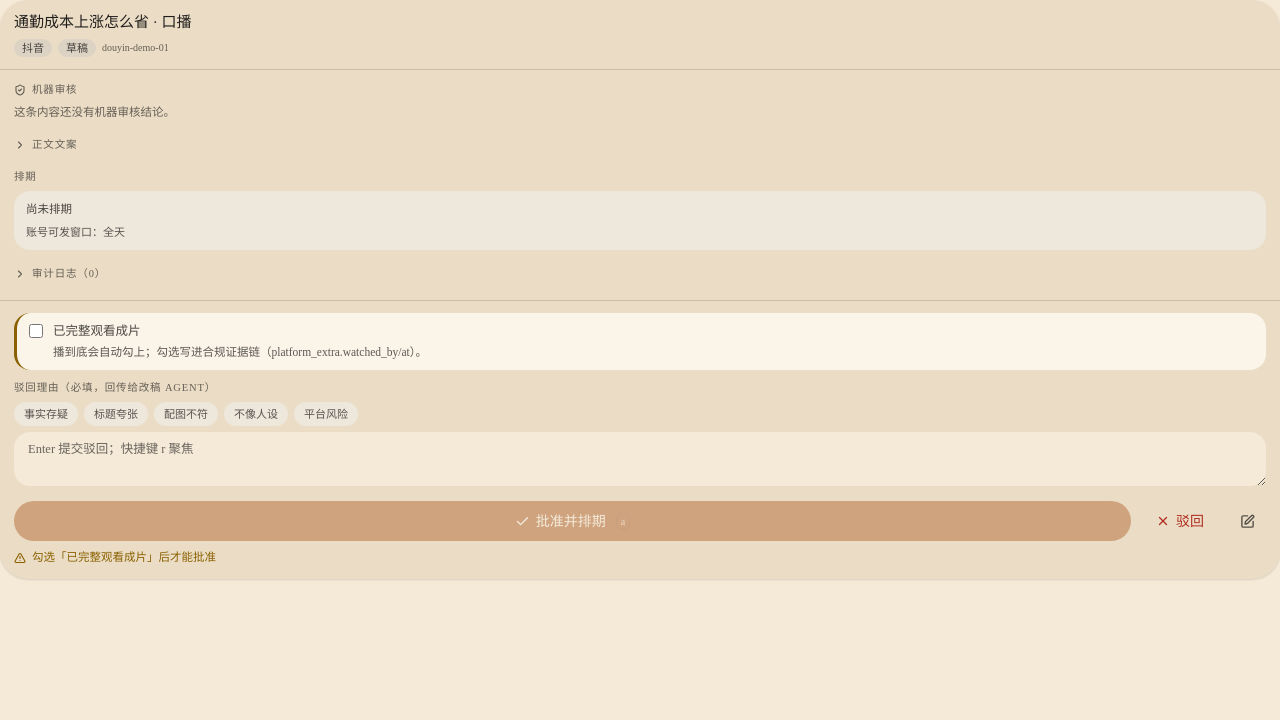
Scenario: 决策栏 · 视频闸门 › 后端回 422 watch_required 时弹提示，而不是静默失败
Click the checkbox labelled "已完整观看成片 播到底会自动勾上；勾选写进合规证据链（platform_extra.watched_by/at）。".
click(36, 331)  # box 29,324 -> 43,338
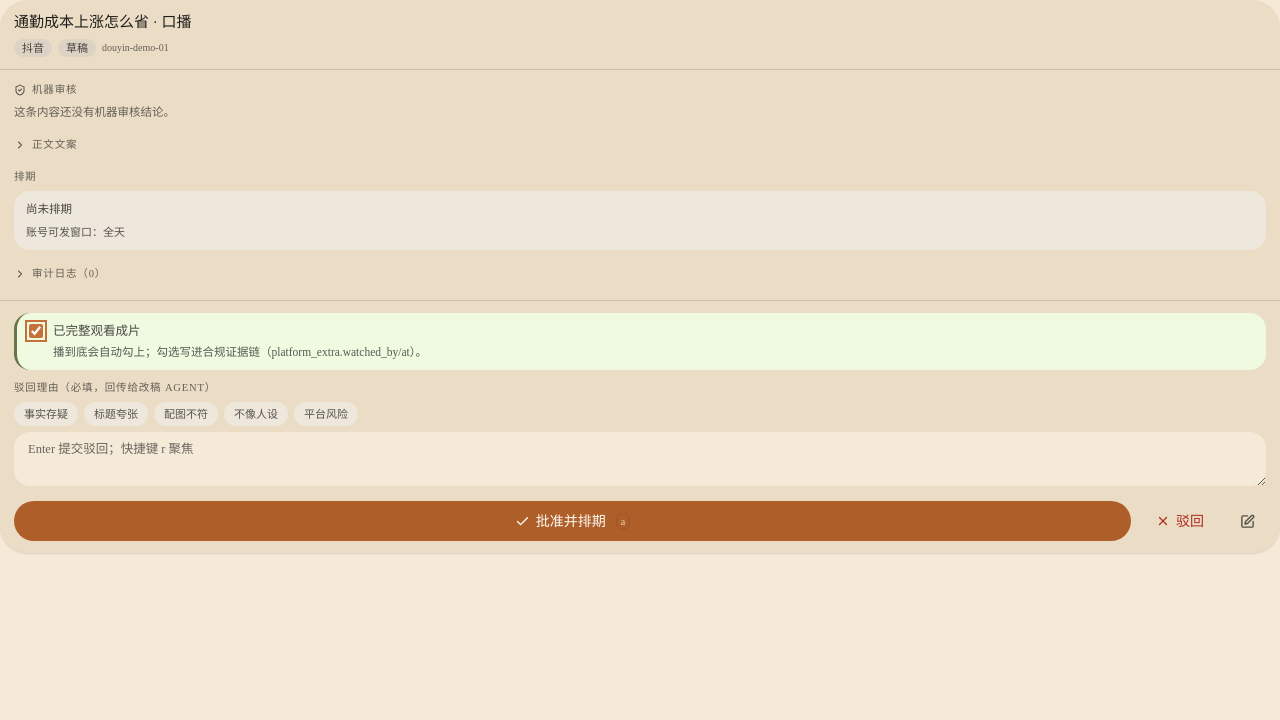
Click the button with test id "approve-button".
click(572, 521)  # box 14,501 -> 1131,541
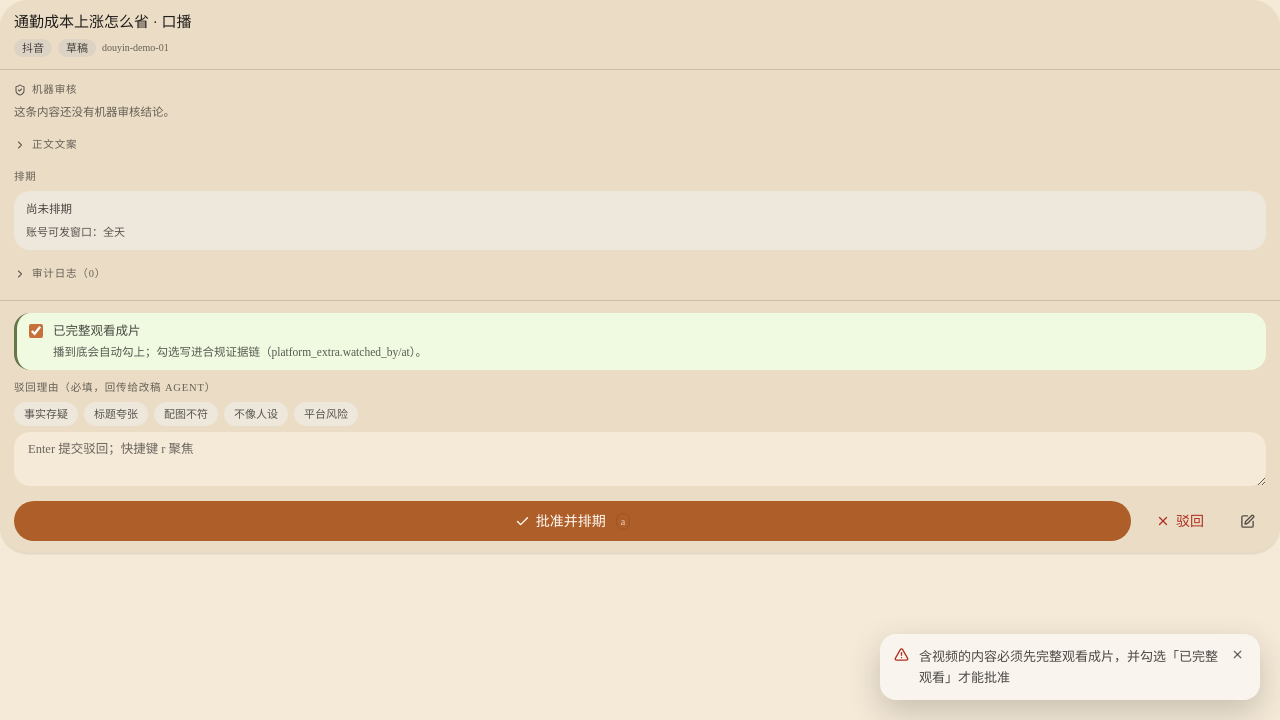
Result: the text "含视频的内容必须先完整观看成片，并勾选「已完整观看」才能批准" is shown at 919,646 -> 1219,688
